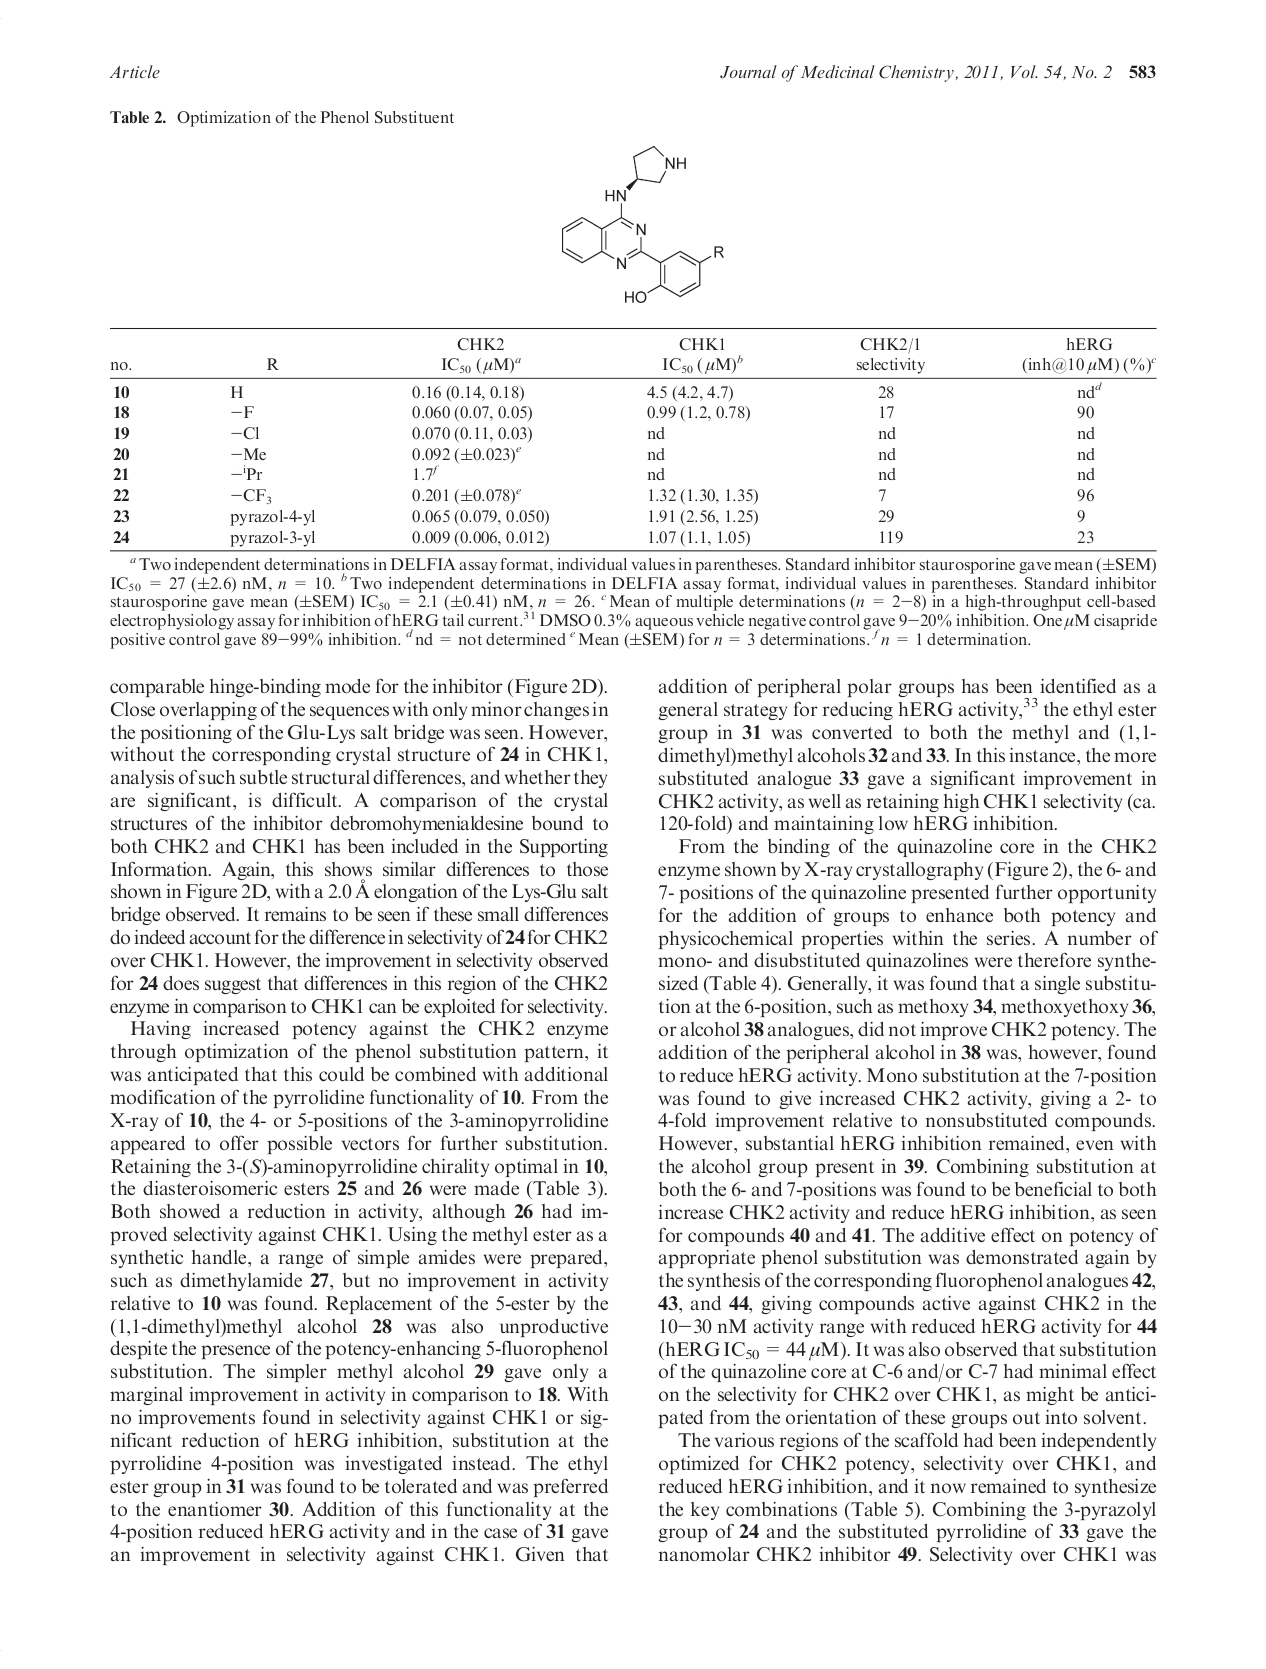exist_molecular: (556, 140, 726, 309)
